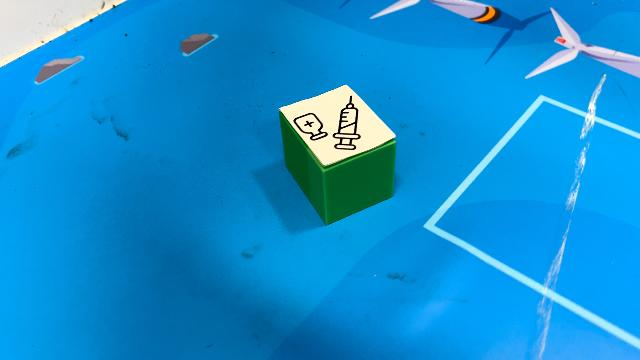syringe: (277, 82, 399, 226)
